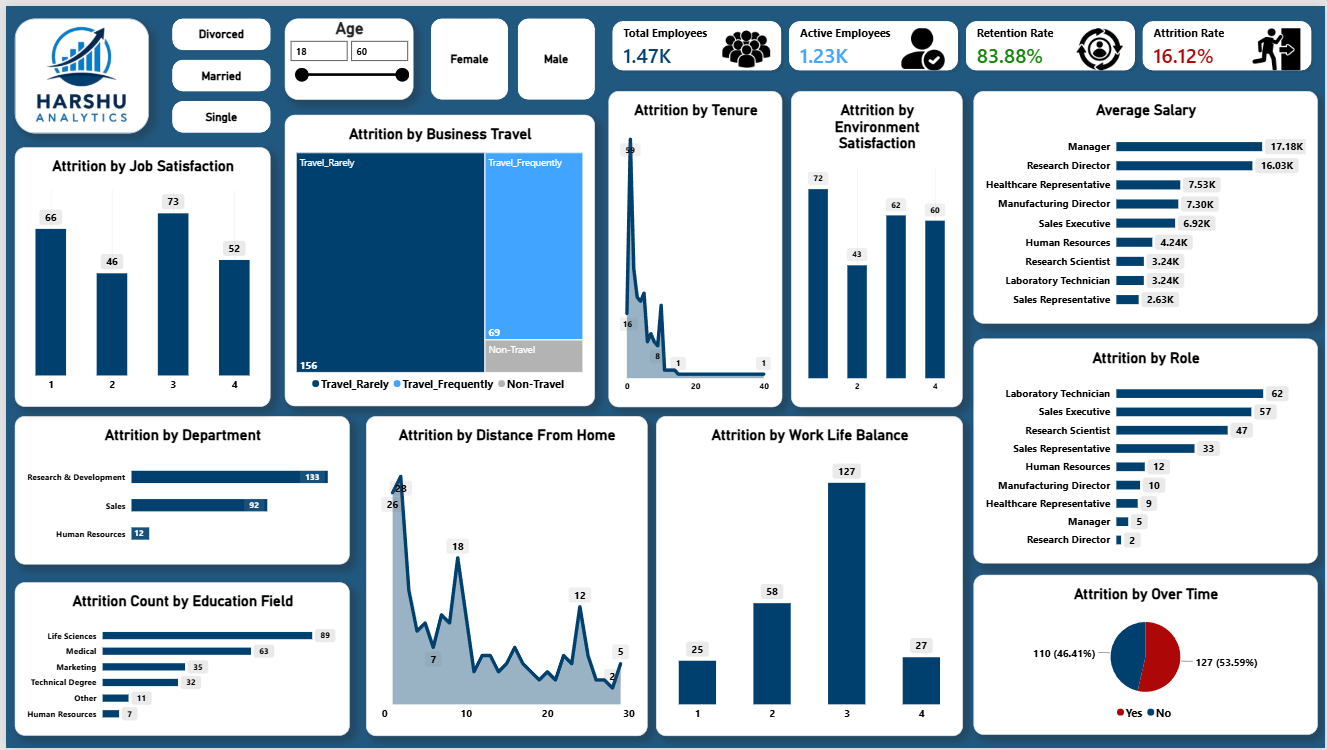

What the dashboard file says about the page in this screenshot:
{"tool":"powerbi","page":{"name":"DashBoard","canvas":[1920,1080],"ordinal":0},"visuals":[{"type":"cardVisual","fields":{"Data":["HR Employee Attrition.Total Employees","HR Employee Attrition.Active Employees","HR Employee Attrition.Retention Rate","HR Employee Attrition.Attrition Rate"]},"box":[876.2,17,1030.9,83.7],"z":0},{"type":"clusteredBarChart","title":"Attrition by Department","fields":{"Category":["HR Employee Attrition.Department"],"Y":["HR Employee Attrition.Attrition Count"]},"box":[13,595.5,487.5,215.9],"z":1000},{"type":"clusteredBarChart","title":"Attrition by Role","fields":{"Category":["HR Employee Attrition.Job Role"],"Y":["HR Employee Attrition.Attrition Count"]},"box":[1406.8,483.8,500.6,327.5],"z":3000},{"type":"shape","box":[13,18.6,195.4,167.5],"z":4000},{"type":"image","box":[24.2,29.8,167.5,141.4],"z":5000},{"type":"pieChart","title":"Attrition by Over Time","fields":{"Category":["HR Employee Attrition.Over Time"],"Y":["HR Employee Attrition.Attrition Count"]},"box":[1406.8,828.1,500.6,232.6],"z":6000},{"type":"clusteredColumnChart","title":"Attrition by Job Satisfaction","fields":{"Category":["HR Employee Attrition.Job Satisfaction"],"Y":["HR Employee Attrition.Attrition Count"]},"box":[13,204.7,372.2,377.7],"z":7000},{"type":"barChart","title":"Average Salary ","fields":{"Category":["HR Employee Attrition.Job Role"],"Y":["Avg(HR Employee Attrition.Monthly Income)"]},"box":[1406.8,122.8,500.6,338.7],"z":8000},{"type":"advancedSlicerVisual","fields":{"Values":["HR Employee Attrition.Marital Status"]},"box":[241.9,18.6,143.3,167.5],"z":9000},{"type":"slicer","title":"Age","fields":{"Values":["HR Employee Attrition.Age"]},"box":[405.5,18.2,187.3,118.2],"z":10000},{"type":"lineChart","title":"Attrition by Tenure","fields":{"Category":["HR Employee Attrition.Years At Company"],"Y":["HR Employee Attrition.Attrition Count"]},"box":[876.5,122.8,253.1,459.6],"z":11000},{"type":"advancedSlicerVisual","fields":{"Values":["HR Employee Attrition.Gender"]},"box":[618.2,18.2,238.2,118.2],"z":12000},{"type":"lineChart","title":"Attrition by Distance From Home","fields":{"Category":["HR Employee Attrition.Distance From Home"],"Y":["HR Employee Attrition.Attrition Count"]},"box":[522.9,595.5,409.4,465.2],"z":12001},{"type":"clusteredBarChart","fields":{"Category":["HR Employee Attrition.Education Field"],"Y":["HR Employee Attrition.Attrition Count"]},"box":[13,837.4,487.5,223.3],"z":12002},{"type":"columnChart","title":"Attrition by Work Life Balance","fields":{"Category":["HR Employee Attrition.Work Life Balance"],"Y":["HR Employee Attrition.Attrition Count"]},"box":[945.3,595.5,446.6,465.2],"z":12003},{"type":"treemap","title":"Attrition by Business Travel","fields":{"Group":["HR Employee Attrition.Business Travel"],"Values":["HR Employee Attrition.Attrition Count"]},"box":[405.5,158.2,450.9,423.6],"z":12004},{"type":"clusteredColumnChart","title":"Attrition by Environment Satisfaction","fields":{"Category":["HR Employee Attrition.Environment Satisfaction"],"Y":["HR Employee Attrition.Attrition Count"]},"box":[1142.6,122.8,249.4,459.6],"z":12005}]}

Visuals, with their boxes in screenshot pixels (x1, y1, x2, y2), scaled from the page's 1920x1080 canvas onto the 1327x750 screenshot:
cardVisual - HR Employee Attrition.Total Employees x HR Employee Attrition.Active Employees: region(606, 12, 1318, 70)
"Attrition by Department" clusteredBarChart: region(9, 414, 346, 563)
"Attrition by Role" clusteredBarChart: region(972, 336, 1318, 563)
shape: region(9, 13, 144, 129)
image: region(17, 21, 132, 119)
"Attrition by Over Time" pieChart: region(972, 575, 1318, 737)
"Attrition by Job Satisfaction" clusteredColumnChart: region(9, 142, 266, 404)
"Average Salary " barChart: region(972, 85, 1318, 320)
advancedSlicerVisual - HR Employee Attrition.Marital Status: region(167, 13, 266, 129)
"Age" slicer: region(280, 13, 410, 95)
"Attrition by Tenure" lineChart: region(606, 85, 781, 404)
advancedSlicerVisual - HR Employee Attrition.Gender: region(427, 13, 592, 95)
"Attrition by Distance From Home" lineChart: region(361, 414, 644, 737)
clusteredBarChart - HR Employee Attrition.Education Field x HR Employee Attrition.Attrition Count: region(9, 582, 346, 737)
"Attrition by Work Life Balance" columnChart: region(653, 414, 962, 737)
"Attrition by Business Travel" treemap: region(280, 110, 592, 404)
"Attrition by Environment Satisfaction" clusteredColumnChart: region(790, 85, 962, 404)
